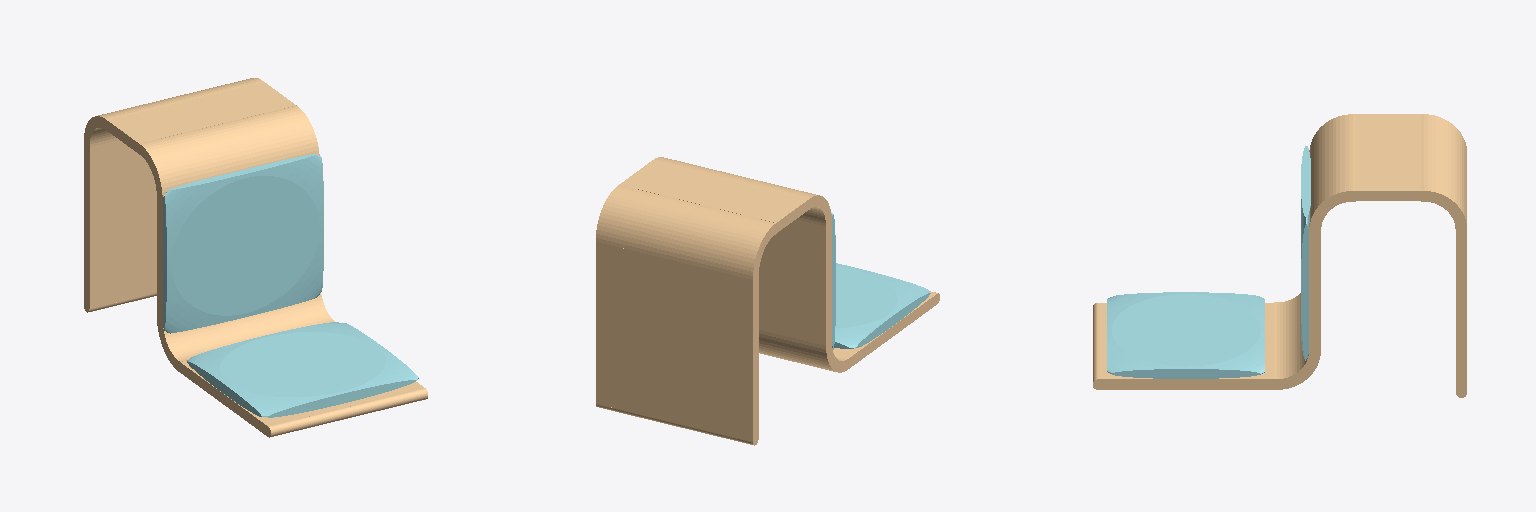
The model's file is tinker.obj.
3 views of the same model, side by side, from view 1: azimuth 30°, elevation 25°; view 2: azimuth 150°, elevation 25°; view 3: azimuth 270°, elevation 25° (orthographic).
Parts seen in each view (by area): view 1: obj_0; view 2: obj_0; view 3: obj_0.
Part boxes in pixels (left/top/right/bottom): obj_0: left=84, top=78, right=427, bottom=437; obj_0: left=596, top=157, right=939, bottom=445; obj_0: left=1093, top=114, right=1466, bottom=397.
Bounding box in the file's own units: 31 × 39 × 64.